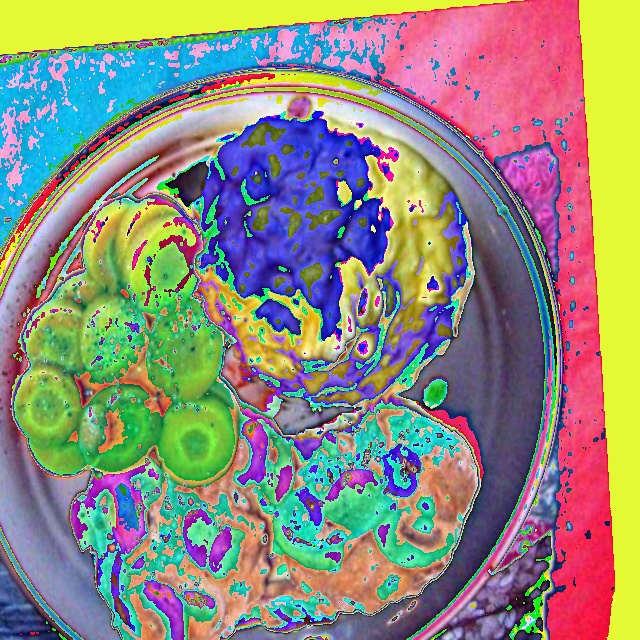background: (12, 115, 481, 639)
